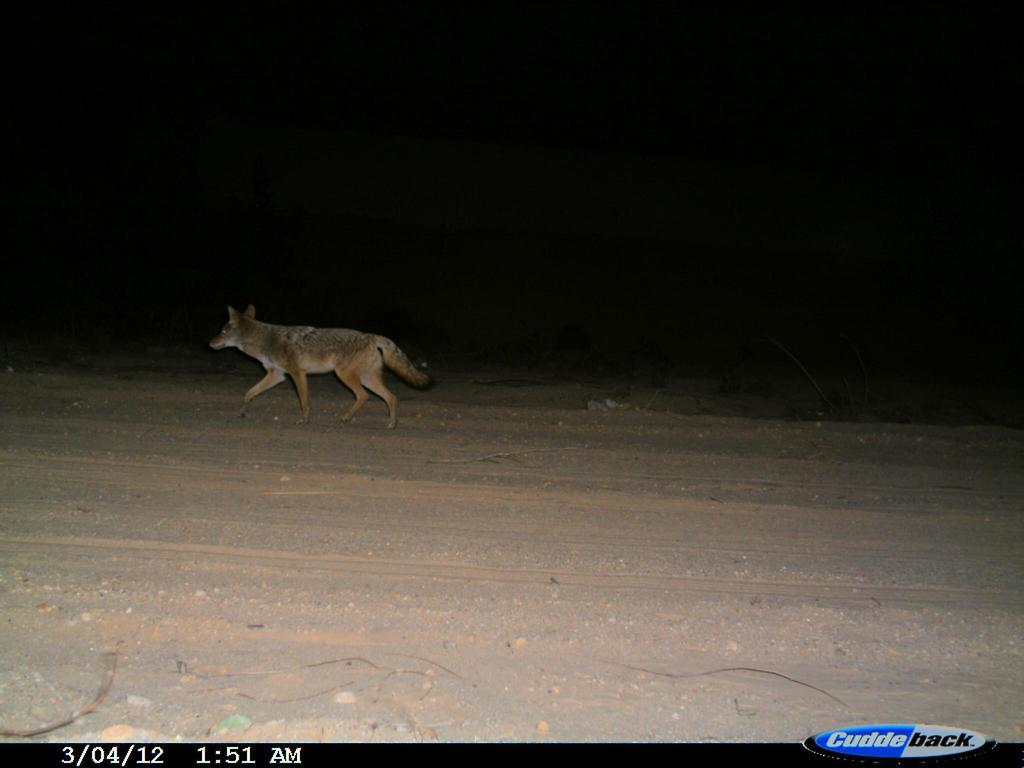coyote: (203, 297, 445, 440)
